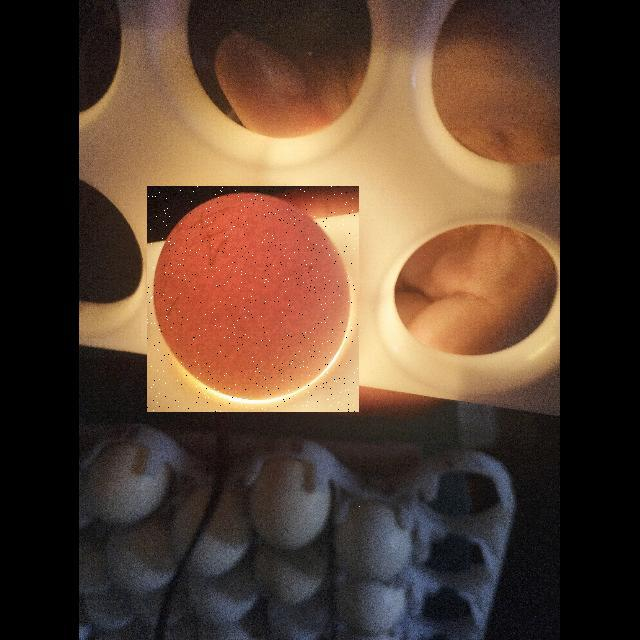Infertile: (147, 186, 359, 412)
